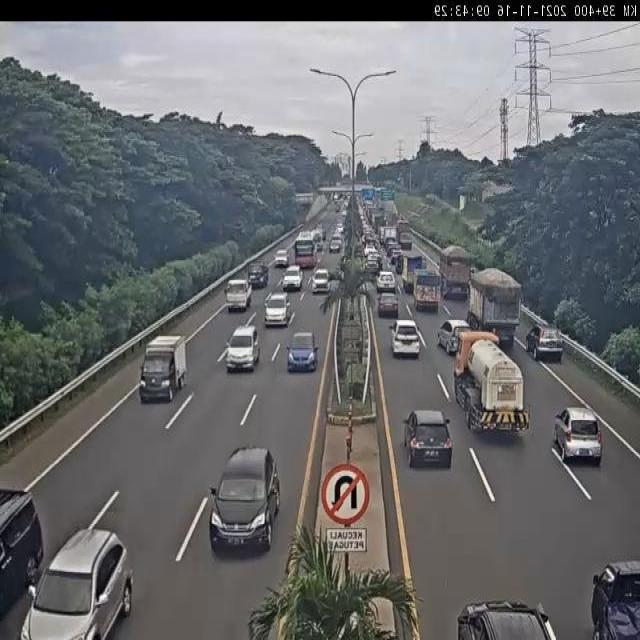Bus: (294, 230, 318, 269)
Car: (20, 528, 134, 638), (208, 446, 280, 554), (0, 487, 45, 617), (455, 598, 561, 640), (403, 406, 453, 470), (554, 406, 603, 464), (226, 324, 262, 373), (286, 330, 320, 373), (526, 324, 564, 362), (436, 318, 471, 355), (390, 318, 421, 358), (264, 290, 292, 326), (281, 265, 303, 292), (377, 292, 399, 318), (311, 267, 330, 293), (376, 270, 396, 294), (274, 249, 289, 268), (365, 260, 380, 274), (329, 238, 342, 254), (391, 248, 403, 262), (396, 255, 406, 271), (385, 238, 396, 248), (387, 243, 396, 254)
Truck: (452, 324, 530, 436), (466, 266, 522, 345), (589, 558, 640, 639), (138, 332, 187, 401), (438, 242, 473, 297), (412, 268, 442, 312), (224, 277, 253, 312), (402, 254, 425, 295), (247, 263, 269, 289), (384, 226, 397, 246), (398, 232, 412, 249), (396, 220, 412, 234), (375, 216, 385, 233), (379, 226, 386, 244)
